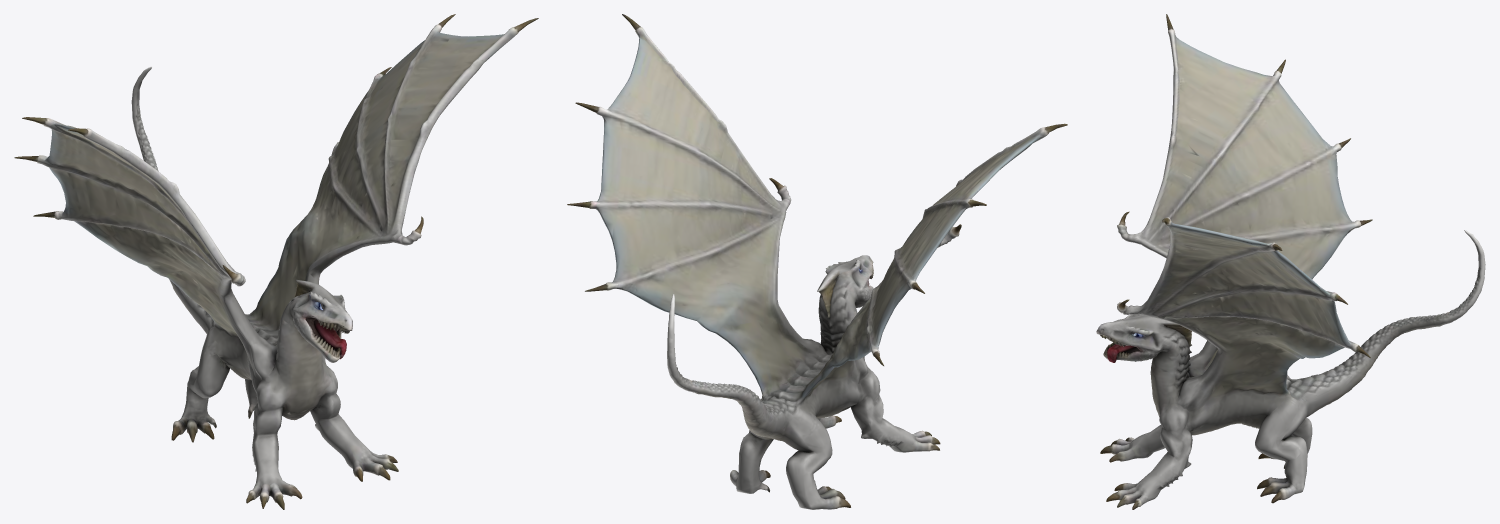
The model's file is MZ4250 - Dragon White Wyrmling.glb.
3 renders of one model, left to right at view 1: azimuth 30°, elevation 25°; view 2: azimuth 150°, elevation 25°; view 3: azimuth 270°, elevation 25°, orthographic. The views are drawn at different scales.
Visible parts, largest first — view 1: Head Base Sphere.001; view 2: Head Base Sphere.001; view 3: Head Base Sphere.001.
Part boxes in pixels (left/top/right/bottom): Head Base Sphere.001: left=14, top=14, right=538, bottom=509; Head Base Sphere.001: left=567, top=14, right=1067, bottom=509; Head Base Sphere.001: left=1096, top=14, right=1485, bottom=509.
Bounding box in the file's own units: 1.47 × 1.19 × 1.17.
Materials: 1 (1 with a texture image).
